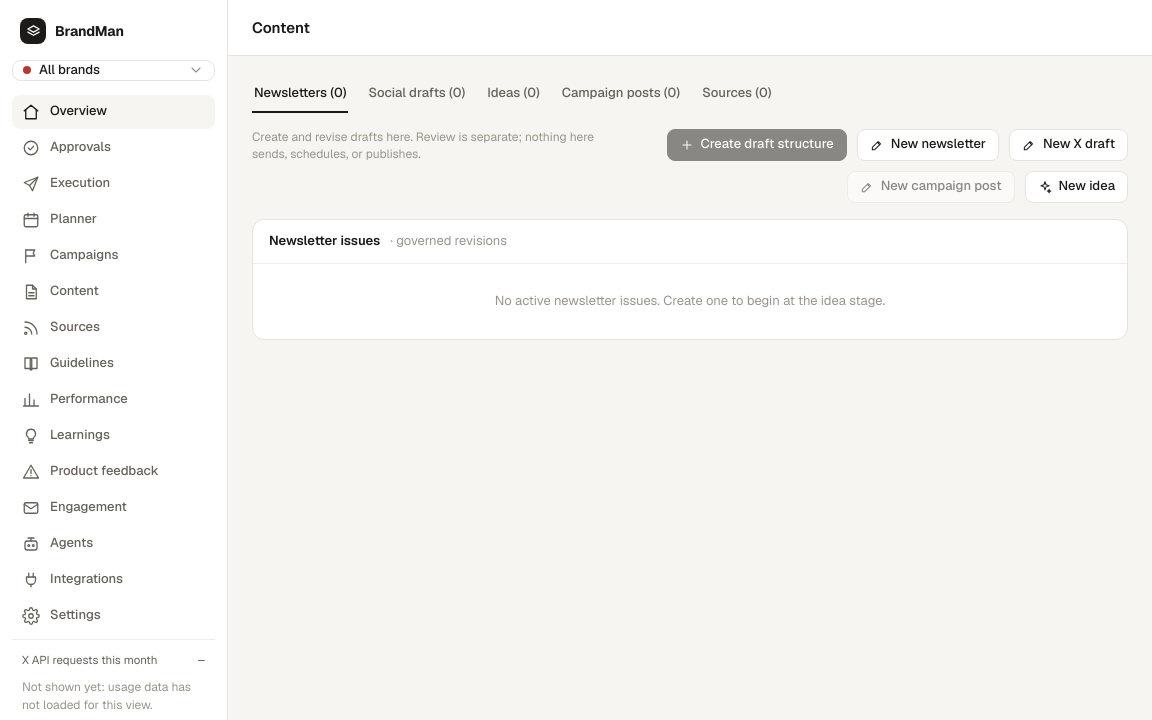
Test case: dashboard loading isolation › shows newsletter issues without waiting for studio or calendar data
The image size is (1152, 720).
Expected: the text "No active newsletter issues. Create one to begin at the idea stage." is shown, x1=495 y1=292 x2=885 y2=309
Expected: the text "Loading" is not shown
Click the button "Campaign posts (0)".
click(621, 94)  # box x1=560 y1=76 x2=682 y2=113
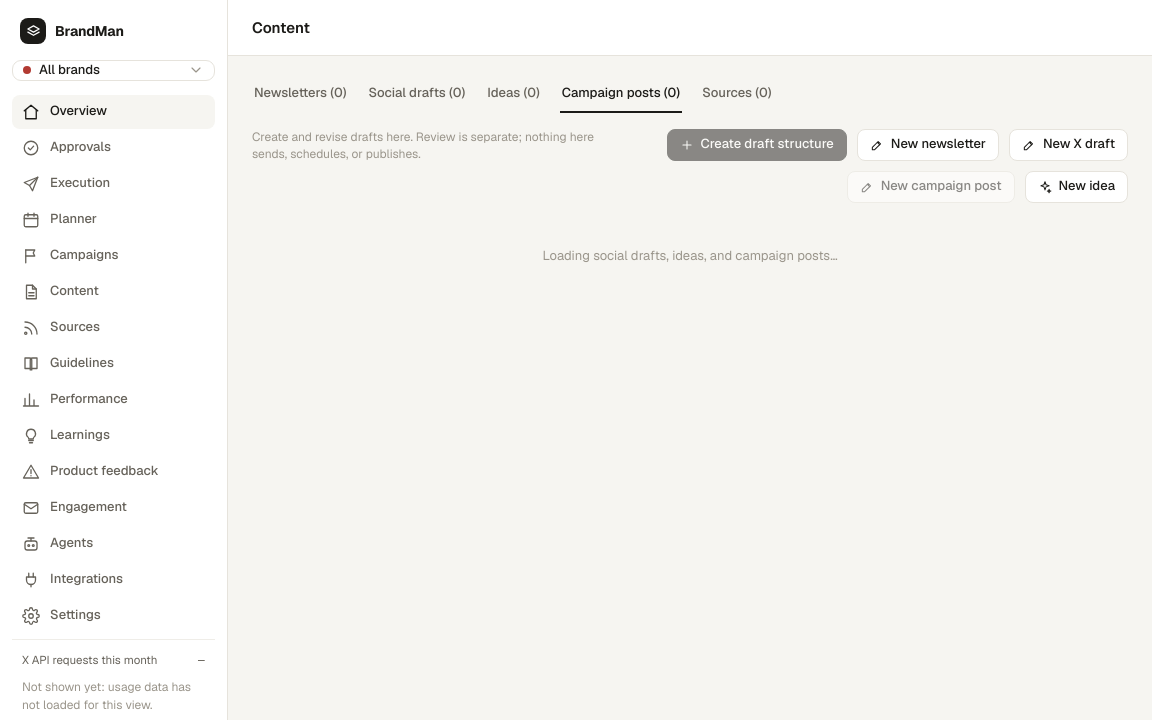
Expected: the text "Loading social drafts, ideas, and campaign posts…" is shown, x1=542 y1=247 x2=838 y2=264
